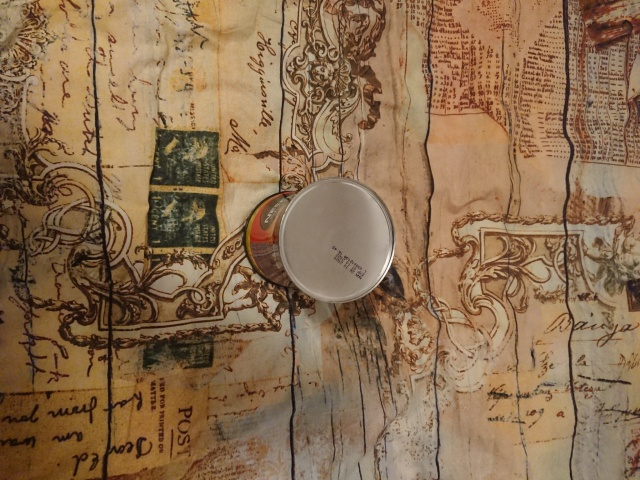Nescafe Classic 225g: (238, 174, 400, 307)
